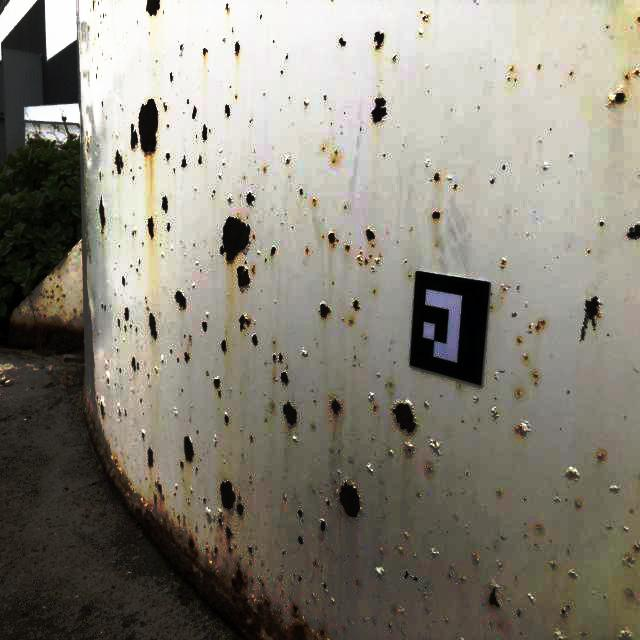Corrosion: (82, 374, 333, 640), (8, 302, 84, 354), (219, 216, 251, 265), (333, 479, 363, 523), (138, 97, 159, 156), (391, 399, 418, 436), (581, 295, 601, 341), (220, 480, 236, 512), (371, 97, 388, 123), (282, 401, 297, 428), (237, 265, 251, 293), (487, 583, 501, 610), (607, 91, 626, 107), (183, 436, 194, 463), (99, 197, 106, 233), (627, 223, 640, 242), (148, 313, 157, 340), (330, 397, 342, 417), (146, 0, 160, 16), (130, 123, 138, 150), (114, 150, 123, 174), (155, 479, 165, 500), (175, 290, 186, 309), (374, 30, 385, 49), (239, 314, 250, 332), (30, 290, 39, 311), (320, 302, 331, 319), (225, 525, 234, 545), (428, 439, 440, 454), (245, 191, 255, 207), (328, 231, 338, 247), (515, 423, 527, 436), (147, 216, 154, 238), (147, 446, 154, 468), (566, 467, 577, 479), (236, 501, 244, 517), (280, 371, 289, 385), (320, 519, 326, 540), (404, 442, 413, 456), (366, 228, 375, 241), (535, 320, 545, 331), (162, 195, 168, 213), (351, 299, 360, 311), (218, 512, 224, 528), (251, 333, 258, 346), (202, 123, 207, 141), (234, 41, 240, 56), (497, 622, 506, 632), (376, 567, 384, 578), (101, 398, 105, 419), (357, 251, 363, 265), (375, 254, 382, 266), (432, 211, 441, 220), (131, 356, 136, 372), (184, 351, 190, 363), (423, 11, 431, 20), (192, 106, 197, 120), (124, 307, 129, 321), (179, 42, 184, 55), (221, 339, 226, 352), (339, 37, 346, 46), (410, 575, 419, 582), (202, 321, 207, 333), (270, 246, 276, 256), (224, 412, 229, 424), (297, 508, 303, 518), (182, 156, 187, 167), (227, 195, 233, 204), (278, 352, 283, 362), (298, 535, 303, 545), (404, 570, 409, 580), (203, 48, 209, 56), (313, 559, 319, 567), (434, 173, 440, 181), (427, 465, 433, 473), (367, 465, 373, 473), (634, 543, 640, 551), (634, 69, 640, 77), (88, 0, 94, 8), (248, 546, 253, 555), (323, 583, 328, 592), (326, 500, 332, 507), (169, 72, 173, 82), (298, 574, 303, 582), (561, 608, 566, 616), (502, 258, 507, 266), (163, 102, 167, 111), (198, 155, 202, 164), (154, 495, 157, 507), (517, 608, 521, 617), (100, 7, 104, 16), (345, 244, 350, 251), (355, 579, 360, 586), (122, 276, 125, 287), (252, 265, 255, 276), (228, 546, 232, 554), (22, 296, 27, 302), (167, 222, 170, 232), (474, 557, 479, 563), (627, 557, 633, 562), (599, 221, 604, 227), (304, 99, 310, 104), (166, 153, 170, 160), (273, 354, 277, 361), (312, 593, 316, 600), (85, 139, 89, 146), (286, 157, 290, 164), (98, 171, 101, 180), (117, 407, 120, 416), (142, 431, 145, 440), (63, 253, 68, 258), (490, 179, 495, 184), (598, 454, 603, 459), (502, 286, 507, 291), (226, 3, 229, 11), (365, 258, 369, 264), (313, 197, 316, 205), (453, 184, 457, 190), (425, 402, 429, 408), (300, 188, 303, 195), (238, 493, 241, 500), (373, 405, 377, 410), (282, 495, 286, 500), (528, 325, 532, 330), (461, 577, 465, 582), (514, 313, 518, 318), (180, 461, 183, 467), (259, 14, 262, 20), (393, 54, 396, 60), (250, 435, 253, 441), (405, 533, 408, 539), (625, 74, 628, 80), (131, 230, 134, 236), (263, 166, 266, 172), (379, 549, 383, 553), (389, 451, 392, 456), (389, 624, 392, 629), (343, 627, 346, 632), (417, 492, 420, 497), (448, 573, 451, 578), (571, 573, 576, 576), (281, 69, 284, 74), (372, 244, 376, 247), (350, 319, 353, 323), (344, 205, 347, 209), (282, 551, 285, 555), (534, 373, 537, 377), (393, 608, 396, 612), (566, 605, 570, 608), (569, 154, 573, 157), (570, 71, 573, 75), (231, 26, 234, 30), (52, 268, 54, 273), (187, 99, 189, 104), (286, 54, 288, 59), (306, 248, 308, 253), (503, 165, 505, 170), (538, 64, 540, 69), (638, 17, 640, 22), (334, 480, 337, 483), (587, 250, 590, 253), (213, 189, 215, 193), (370, 254, 372, 258), (253, 235, 255, 239), (245, 260, 247, 264), (234, 545, 236, 549), (508, 77, 510, 81), (212, 194, 214, 197), (264, 258, 266, 261), (552, 565, 555, 567), (511, 67, 513, 70), (515, 79, 516, 81)
